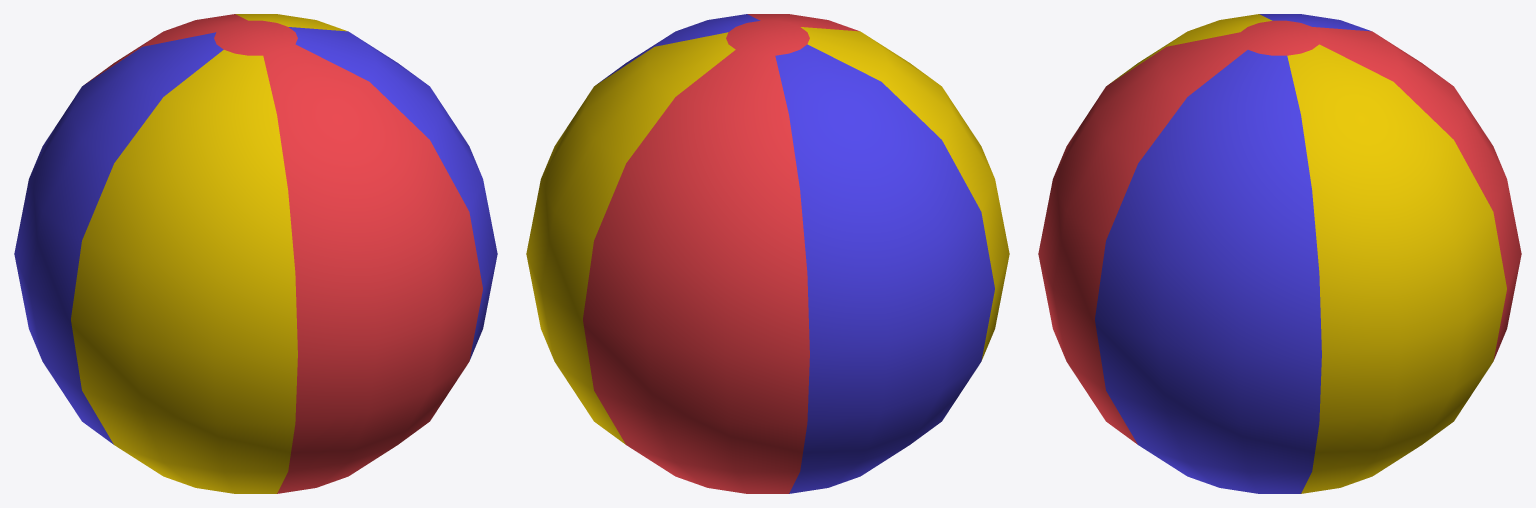
File: GAMEJAMPUFFER - Beach Ball.fbx
3 views of the same model, side by side, from view 1: azimuth 30°, elevation 25°; view 2: azimuth 150°, elevation 25°; view 3: azimuth 270°, elevation 25° (orthographic).
Parts seen in each view (by area): view 1: Beach Ball; view 2: Beach Ball; view 3: Beach Ball.
Boxes of the visible parts, x1,y1,x2,y2 form: Beach Ball: (14, 14, 497, 493); Beach Ball: (526, 14, 1009, 493); Beach Ball: (1038, 14, 1521, 493).
Bounding box in the file's own units: 197 × 200 × 200.
